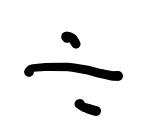div: (24, 31, 123, 116)
